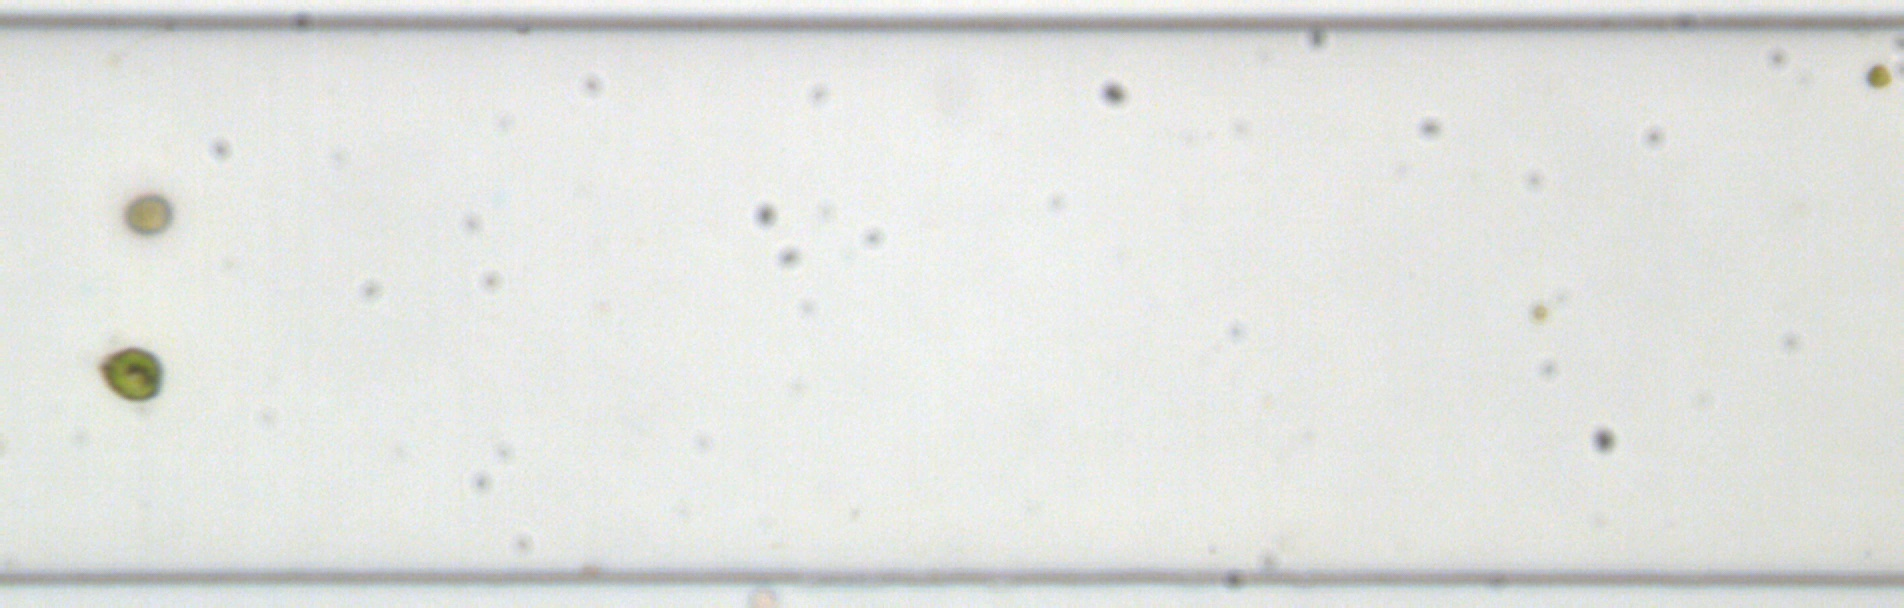Chlorella: (1863, 61, 1893, 89), (1529, 302, 1548, 323)
Effrenium: (123, 191, 175, 235)
Platymonas: (96, 343, 168, 403)
